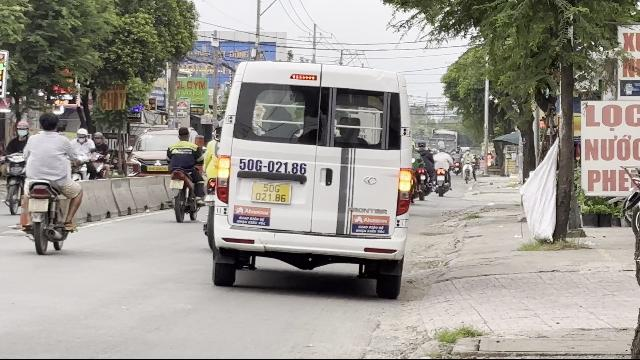licenseplate: (28, 198, 48, 212)
motorcyclist: (14, 111, 84, 253)
nohelmet: (38, 112, 58, 132)
